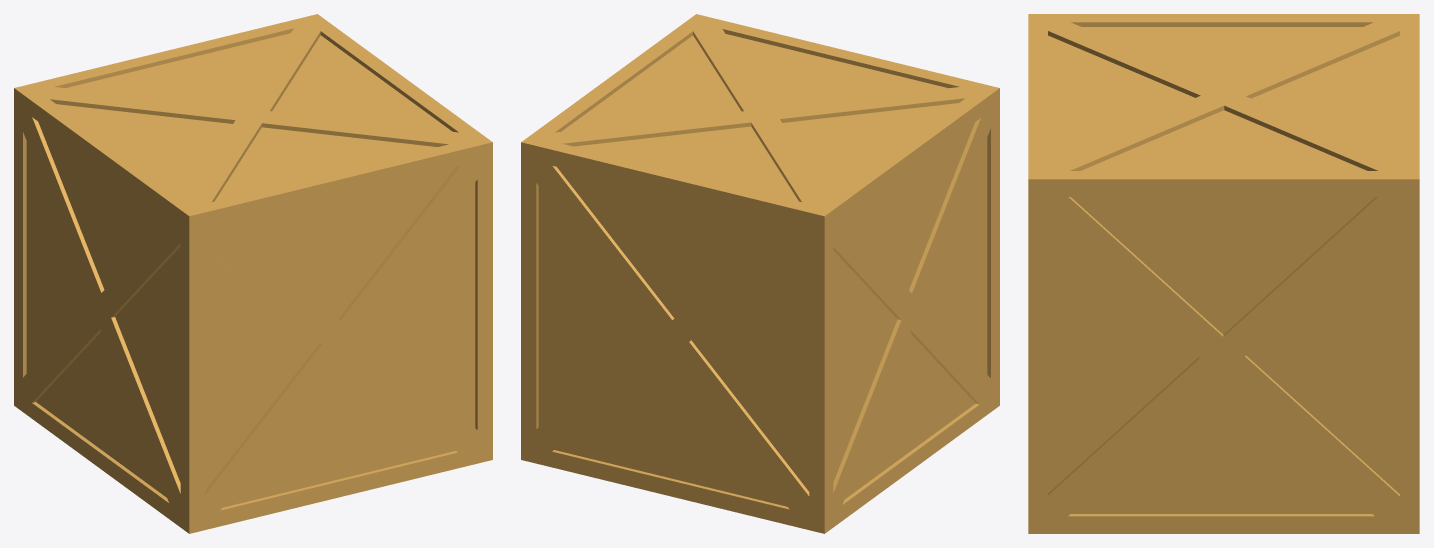
The model's file is crate_precolored.fbx.
The picture shows the model from 3 angles, left to right: view 1: azimuth 30°, elevation 25°; view 2: azimuth 150°, elevation 25°; view 3: azimuth 270°, elevation 25°; orthographic projection. The views are drawn at different scales.
Visible parts, largest first — view 1: Cube.006; view 2: Cube.006; view 3: Cube.006.
Boxes of the visible parts, x1=… form: Cube.006: x1=14, y1=14, x2=492, y2=533; Cube.006: x1=521, y1=14, x2=999, y2=533; Cube.006: x1=1028, y1=14, x2=1419, y2=533.
Bounding box in the file's own units: 574 × 574 × 574.
